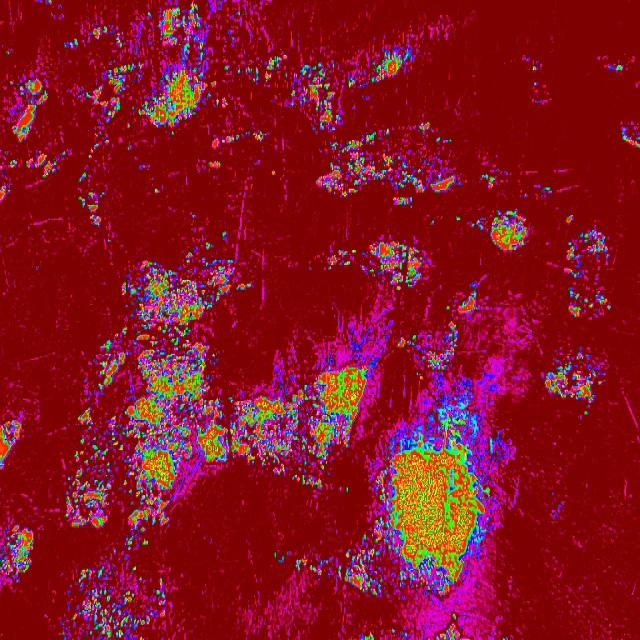fire: (62, 242, 226, 530), (374, 383, 509, 601), (226, 344, 374, 474), (314, 122, 462, 208), (58, 564, 170, 640), (138, 52, 215, 134), (396, 320, 464, 378), (543, 347, 608, 402), (288, 59, 342, 122), (366, 242, 425, 290), (154, 0, 207, 52), (10, 78, 48, 142), (0, 521, 33, 590), (564, 229, 610, 276), (102, 62, 136, 124), (338, 534, 373, 594), (488, 209, 530, 251), (368, 46, 414, 82), (564, 285, 612, 316), (0, 415, 23, 465), (78, 190, 106, 229), (26, 152, 60, 178), (323, 246, 358, 270), (92, 22, 124, 48), (264, 54, 288, 84), (82, 134, 106, 164), (460, 283, 480, 315), (433, 622, 468, 640), (619, 120, 640, 150), (307, 556, 333, 580), (123, 531, 150, 550), (290, 475, 323, 490), (82, 84, 101, 104), (470, 214, 486, 234), (245, 64, 261, 84), (246, 130, 267, 144), (479, 172, 497, 188), (206, 156, 222, 172), (608, 60, 626, 74), (224, 132, 242, 146), (227, 257, 234, 292), (540, 182, 554, 198), (62, 38, 80, 50), (76, 168, 90, 183), (273, 549, 286, 565), (236, 280, 253, 292), (562, 210, 574, 224), (346, 76, 358, 90), (214, 96, 226, 110), (0, 185, 10, 201), (135, 160, 146, 174), (8, 155, 18, 169), (360, 632, 377, 640), (295, 556, 302, 572), (402, 630, 412, 640), (110, 546, 119, 556), (531, 63, 540, 73), (582, 409, 591, 418), (220, 230, 228, 240), (428, 218, 436, 228), (222, 62, 230, 72), (500, 632, 509, 640), (268, 169, 278, 176), (62, 147, 68, 158), (454, 214, 462, 222), (4, 49, 12, 57), (190, 211, 198, 219), (230, 34, 238, 42), (234, 11, 243, 18), (154, 186, 160, 196), (147, 10, 153, 20), (391, 626, 397, 635), (445, 304, 450, 314), (46, 0, 56, 5), (345, 487, 351, 495), (236, 68, 242, 76), (452, 612, 458, 620), (532, 80, 538, 88), (125, 124, 132, 130), (126, 144, 130, 154)
